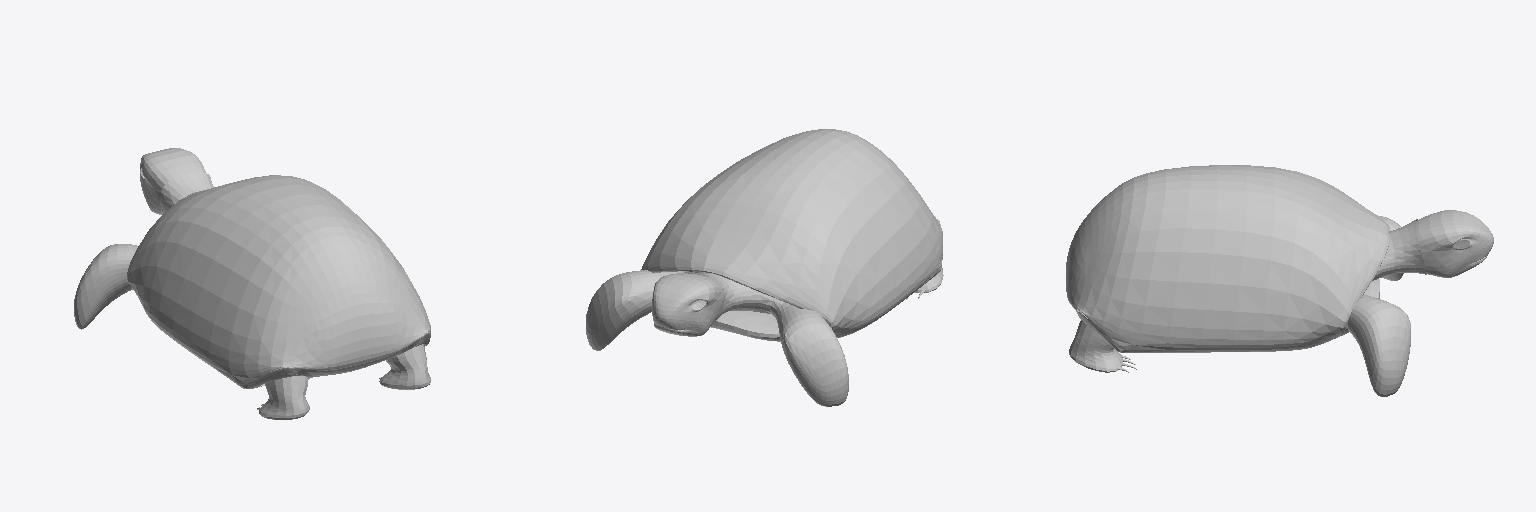
File: turtle.obj
3 renders of one model, left to right at view 1: azimuth 30°, elevation 25°; view 2: azimuth 150°, elevation 25°; view 3: azimuth 270°, elevation 25°, orthographic.
Parts seen in each view (by area): view 1: Tartaruga__1_0; view 2: Tartaruga__1_0; view 3: Tartaruga__1_0.
Part boxes in pixels (bbox=[...]): Tartaruga__1_0: bbox=[74, 148, 430, 419]; Tartaruga__1_0: bbox=[586, 129, 943, 406]; Tartaruga__1_0: bbox=[1066, 165, 1493, 396].
Size of the model in its own units: 179 by 107 by 254.